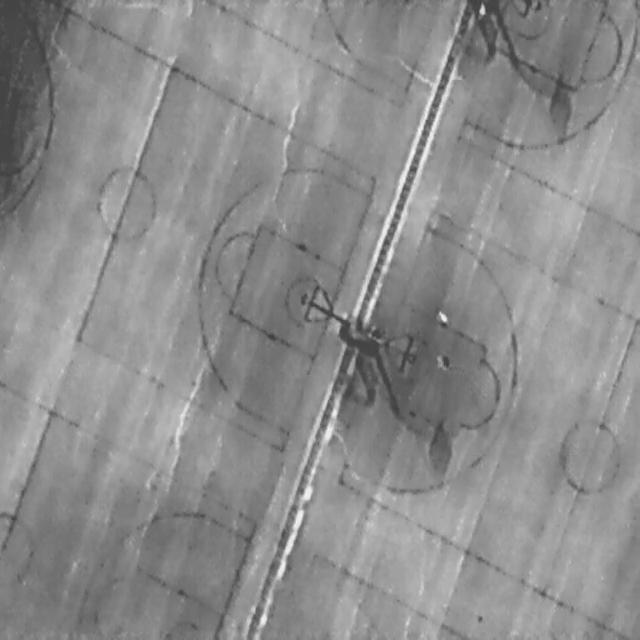Person: (435, 306, 449, 328), (479, 0, 486, 18)
